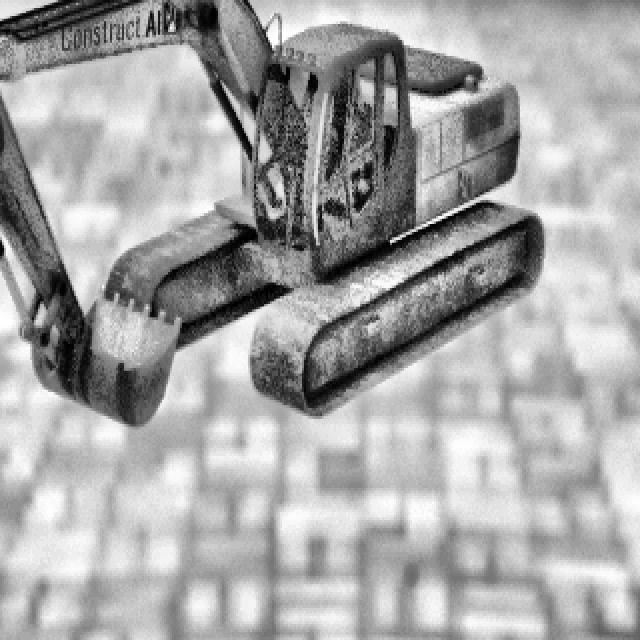excavator: (0, 0, 544, 424)
